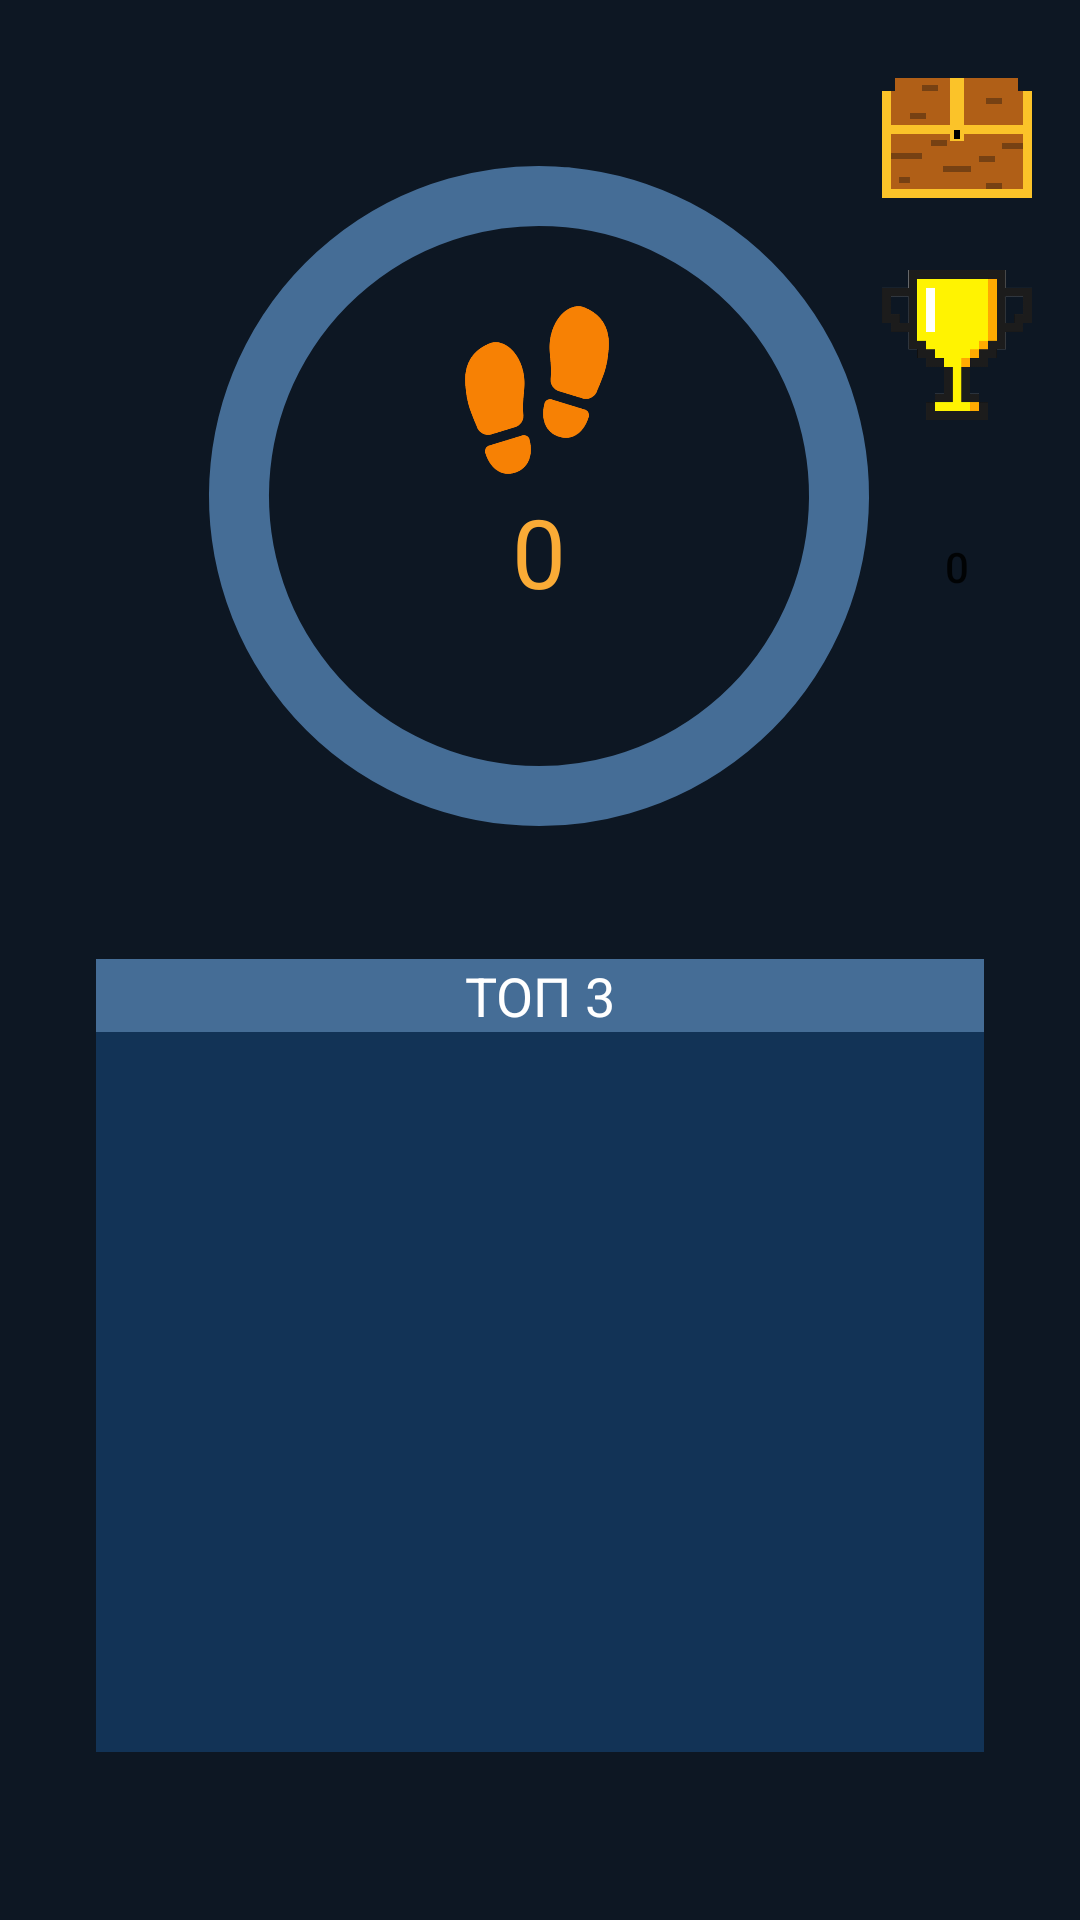

Screen size 1080x1920. Icon name, then its center in pixels as point (x, y):
chest full: point (957, 138)
reward: point (957, 340)
step: point (537, 390)
